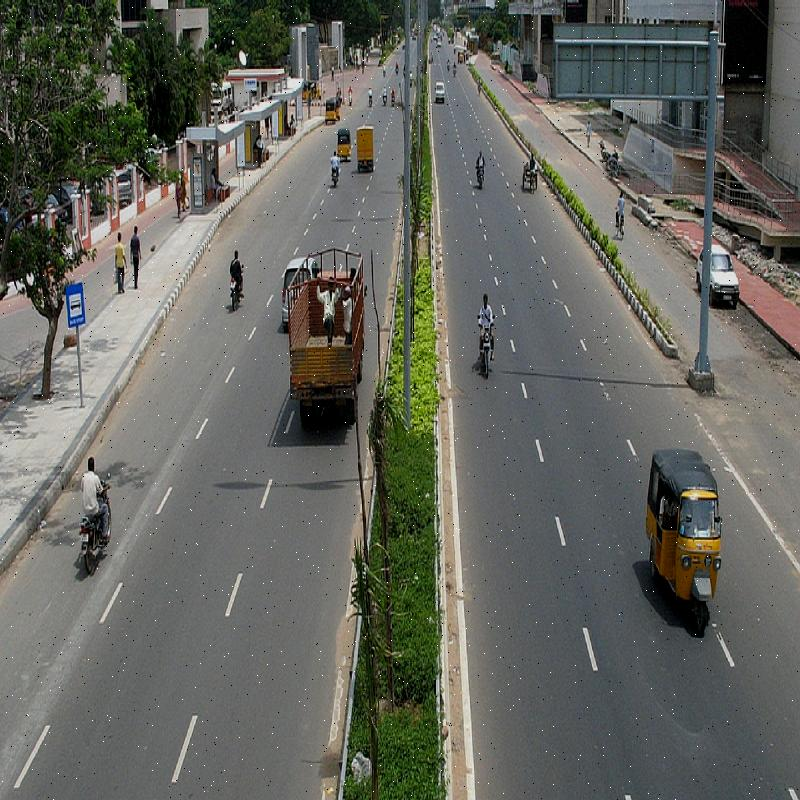auto: (636, 430, 729, 653)
